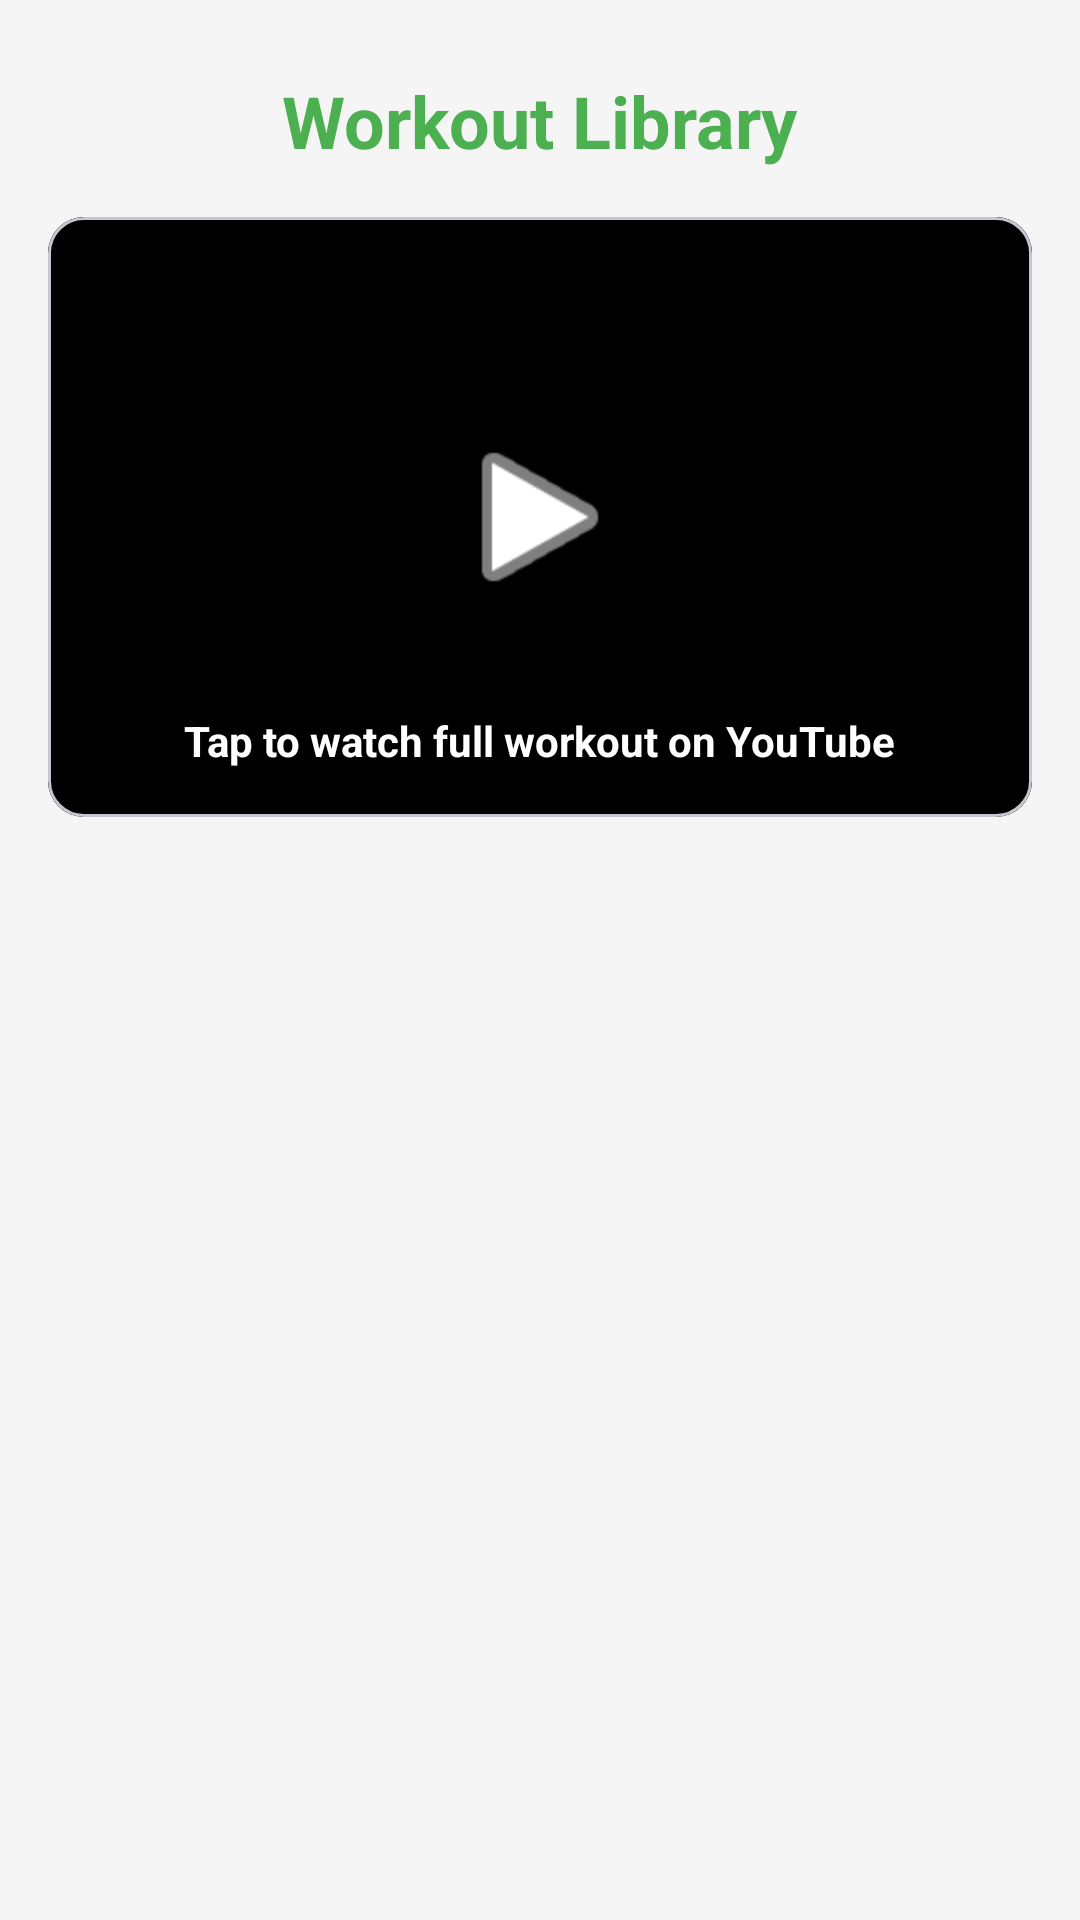

Where to tap for icons on this 1080x1920 app screen, as [x,y]:
play: [540,517]
